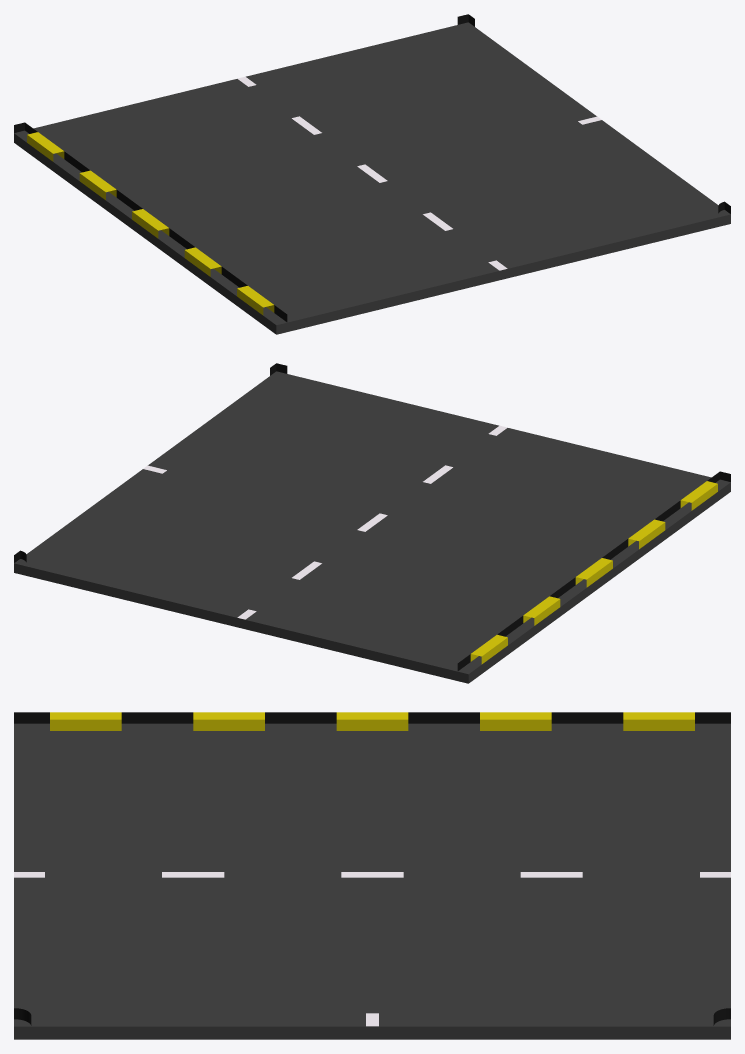
3 renders of one model, top to bottom at view 1: azimuth 30°, elevation 25°; view 2: azimuth 150°, elevation 25°; view 3: azimuth 270°, elevation 25°, orthographic. The views are drawn at different scales.
Parts seen in each view (by area): view 1: TShape; view 2: TShape; view 3: TShape.
Boxes of the visible parts, x1,y1,x2,y2 form: TShape: (14, 14, 730, 334); TShape: (14, 363, 730, 683); TShape: (14, 712, 730, 1039).
Bounding box in the file's own units: 2 × 0.0741 × 2.
